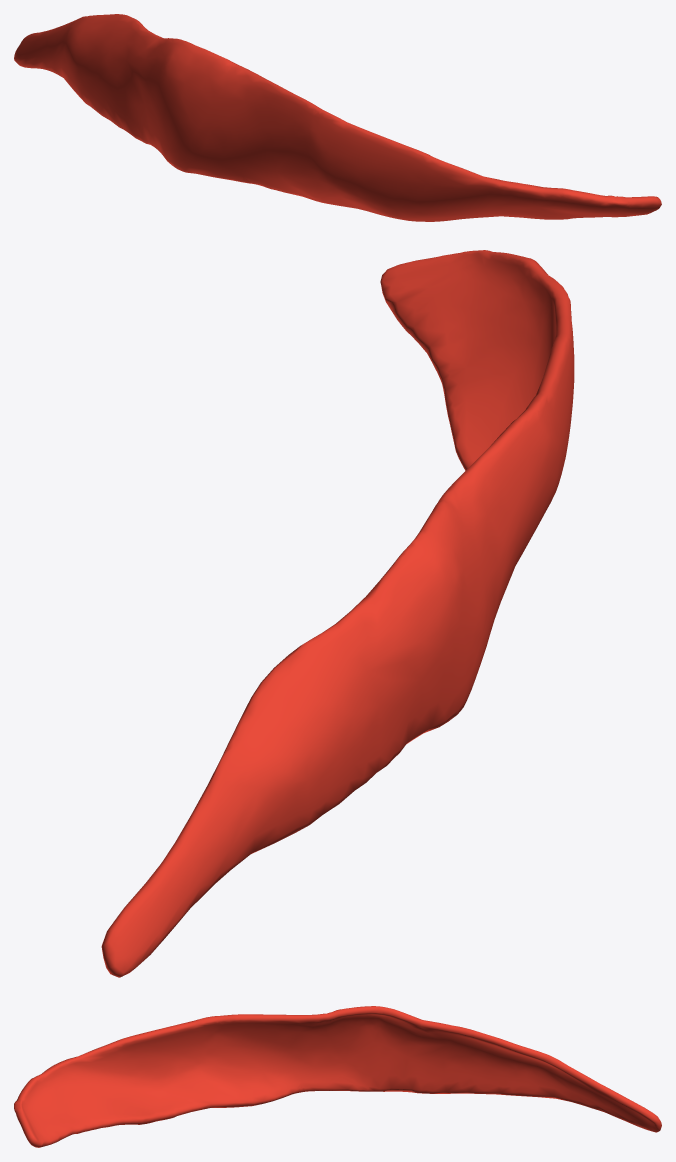
The model's file is Acromial_head_of_deltoid_muscle-Scapular_insertion.r_Generated_.glb.
The picture shows the model from 3 angles, top to bottom: view 1: azimuth 30°, elevation 25°; view 2: azimuth 150°, elevation 25°; view 3: azimuth 270°, elevation 25°; orthographic projection. The views are drawn at different scales.
Visible parts, largest first — view 1: Acromial_head_of_deltoid_muscle-Scapular_insertion.r_Generat; view 2: Acromial_head_of_deltoid_muscle-Scapular_insertion.r_Generat; view 3: Acromial_head_of_deltoid_muscle-Scapular_insertion.r_Generat.
Boxes of the visible parts, x1,y1,x2,y2 form: Acromial_head_of_deltoid_muscle-Scapular_insertion.r_Generat: (14,14,661,221); Acromial_head_of_deltoid_muscle-Scapular_insertion.r_Generat: (101,250,574,977); Acromial_head_of_deltoid_muscle-Scapular_insertion.r_Generat: (14,1006,661,1147).
Size of the model in its own units: 0.0145 by 0.0081 by 0.039.
